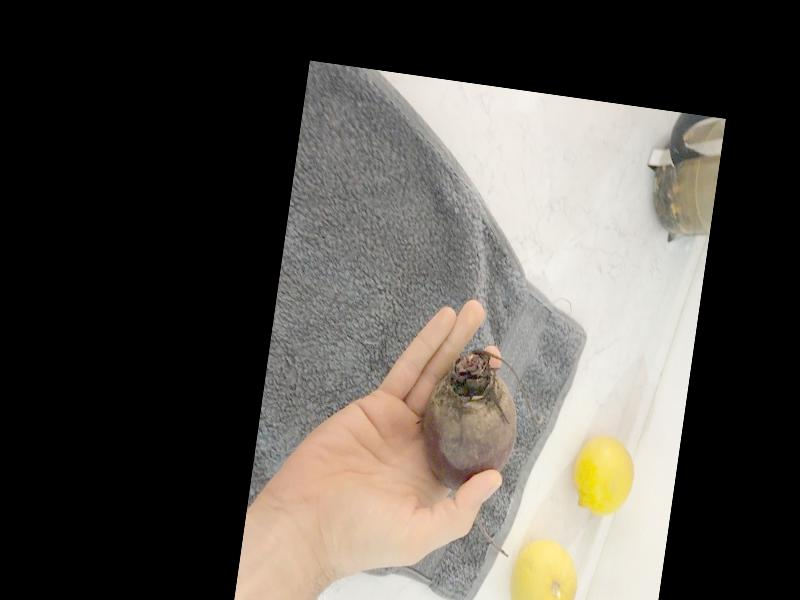Beet: (405, 344, 536, 558)
